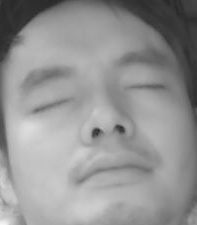blink: (120, 78, 165, 98), (30, 96, 72, 115)
mouth: (72, 151, 150, 190)
